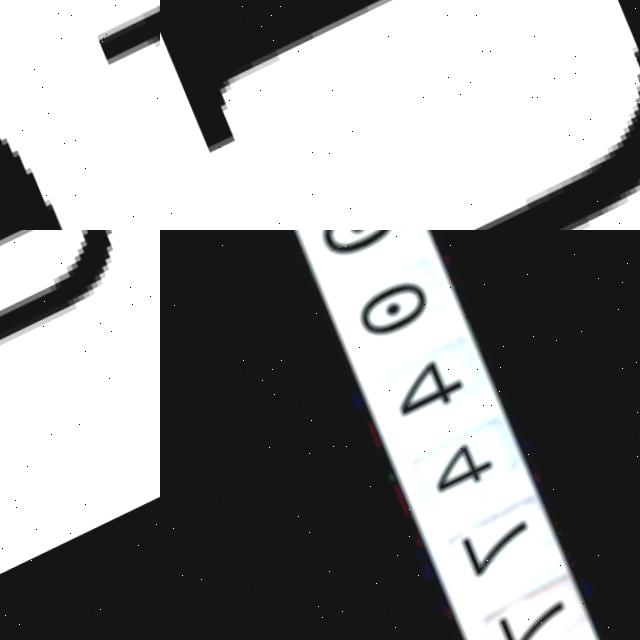0: (338, 268, 440, 356), (300, 230, 410, 277)
4: (371, 347, 476, 439), (409, 433, 503, 514)
7: (442, 506, 544, 594), (484, 588, 578, 640)
S: (0, 0, 160, 230)
U: (160, 0, 640, 230), (0, 230, 141, 550)
